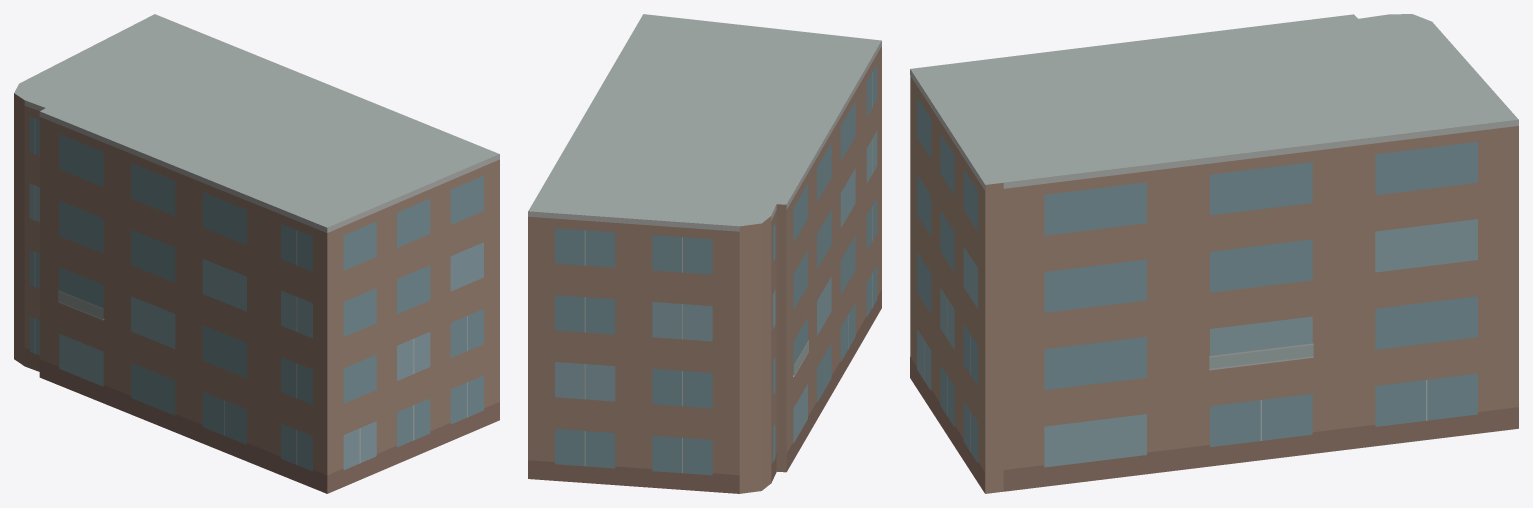
File: survey-upis-33013182.glb
3 views of the same model, side by side, from view 1: azimuth 30°, elevation 25°; view 2: azimuth 150°, elevation 25°; view 3: azimuth 270°, elevation 25° (orthographic). The views are drawn at different scales.
Parts seen in each view (by area): view 1: survey-upis-33013182.tmp; view 2: survey-upis-33013182.tmp; view 3: survey-upis-33013182.tmp.
Boxes of the visible parts, x1,y1,x2,y2 form: survey-upis-33013182.tmp: [14, 14, 499, 493]; survey-upis-33013182.tmp: [528, 14, 881, 493]; survey-upis-33013182.tmp: [910, 14, 1518, 493].
Bounding box in the file's own units: 14.48 × 12.2 × 21.79.
